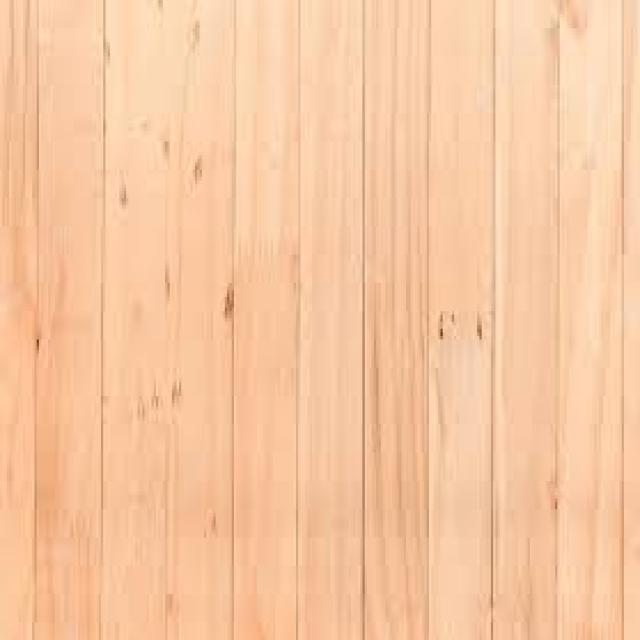perfect-wooden-plate: (107, 0, 231, 640), (39, 0, 106, 638), (495, 2, 559, 640), (430, 0, 493, 640), (560, 3, 621, 640), (303, 4, 364, 640), (237, 2, 295, 640), (370, 0, 427, 640), (0, 0, 37, 640), (624, 0, 640, 640)
